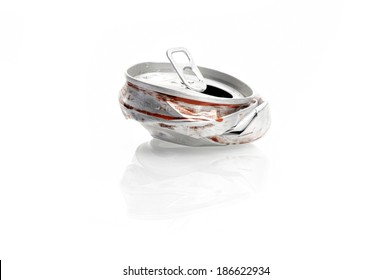can: (117, 46, 273, 149)
